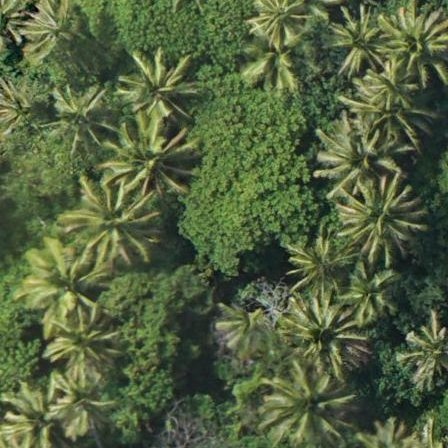palm_tree: (116, 46, 195, 131), (25, 244, 109, 321), (320, 113, 405, 185), (111, 123, 191, 199), (76, 181, 151, 261), (378, 1, 448, 86), (338, 179, 415, 251), (261, 371, 339, 442), (285, 297, 357, 367), (51, 369, 119, 435), (46, 80, 109, 149), (21, 1, 87, 63), (47, 313, 115, 371), (325, 7, 381, 69), (288, 237, 347, 292), (397, 319, 448, 381), (246, 1, 311, 47)
